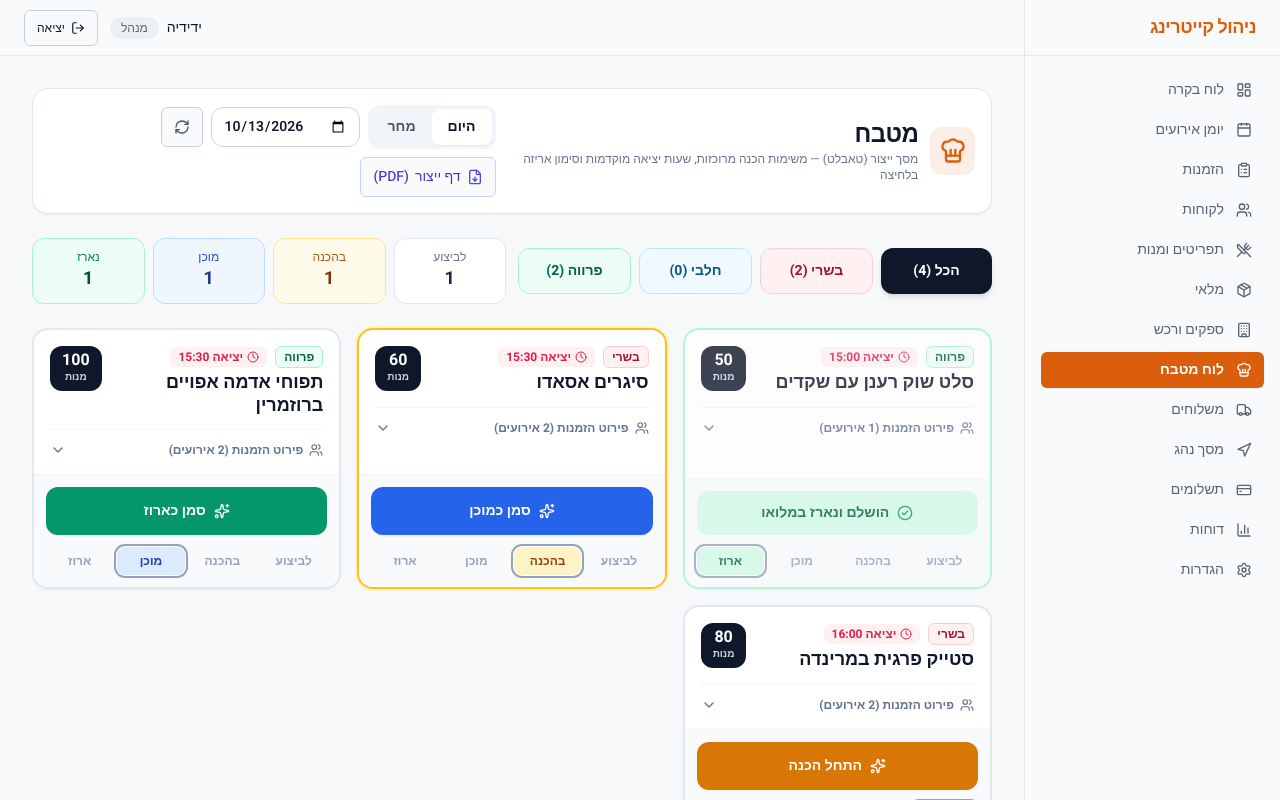
Scenario: S12 Kitchen Tablet Display › filters kitchen tasks by kashrut
Expected: the heading "סיגרים אסאדו" is shown, [536, 369, 649, 396]
Step 1. Click the button "פרווה (2)" → (574, 271), box [518, 248, 631, 294]
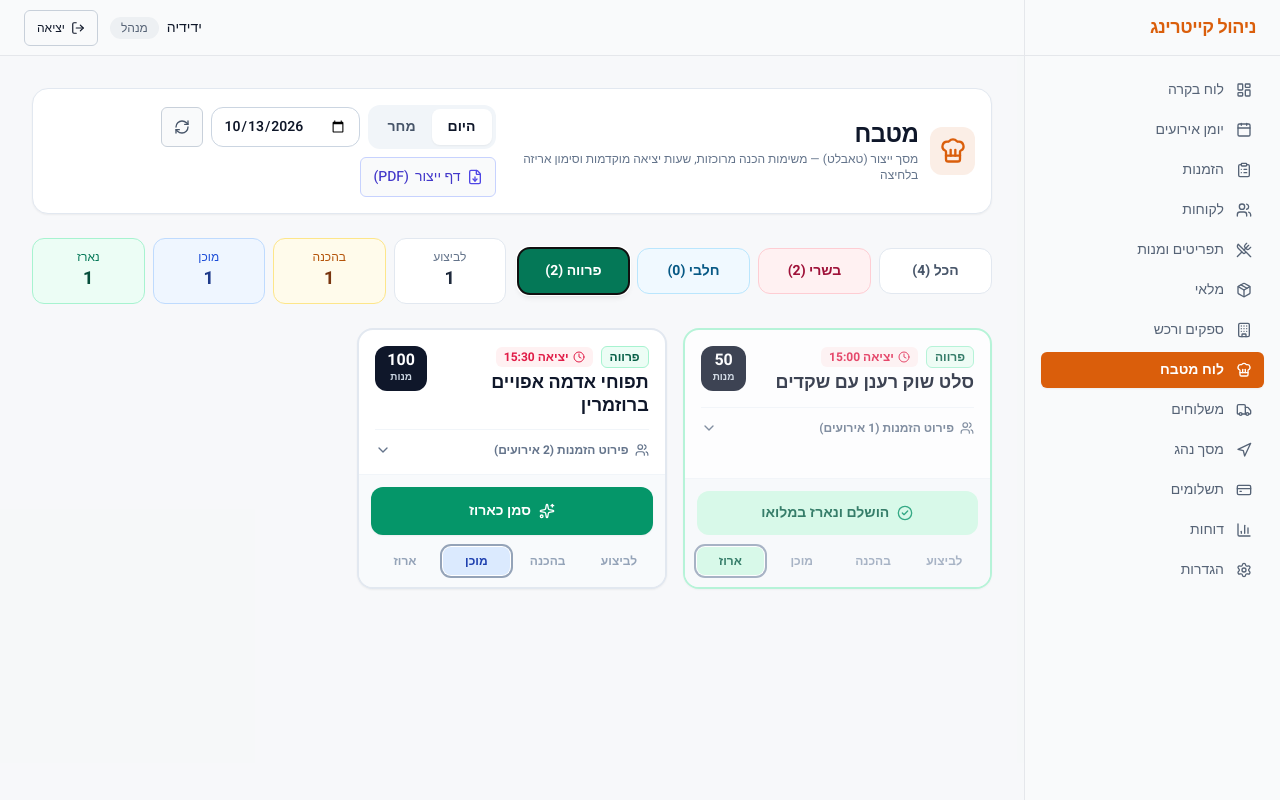
Expected: the heading "תפוחי אדמה אפויים ברוזמרין" is shown, [491, 369, 649, 418]
Now the heading "סיגרים אסאדו" is gone
